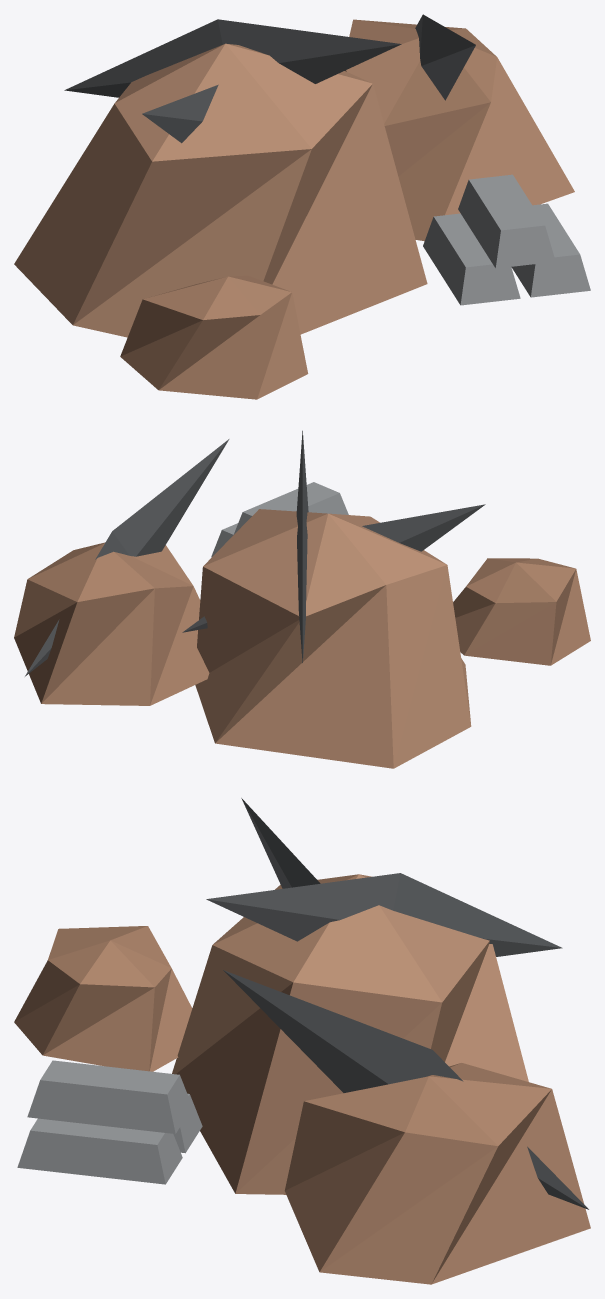
Rendered from iron.glb.
3 renders of one model, top to bottom at view 1: azimuth 30°, elevation 25°; view 2: azimuth 150°, elevation 25°; view 3: azimuth 270°, elevation 25°, orthographic. The views are drawn at different scales.
Visible parts, largest first — view 1: LOD0; view 2: LOD0; view 3: LOD0.
Part boxes in pixels (x1,y1,x2,y2): LOD0: [14, 14, 590, 399]; LOD0: [14, 430, 590, 768]; LOD0: [14, 798, 590, 1284].
Size of what is drawn, in the model's own units: 0.7041 by 0.3173 by 0.6046.
